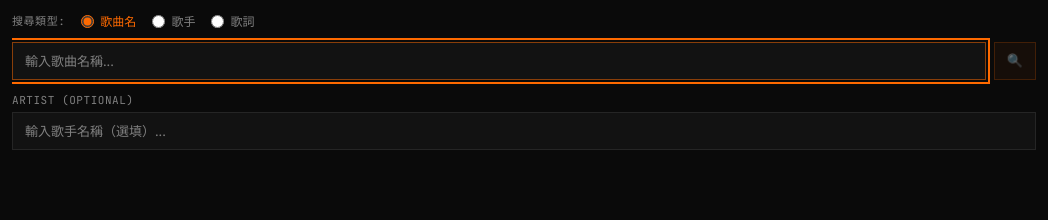
Test: LyricsSearchPanel › displays error message when search fails
This screenshot has width=1048, height=220.
Type "Test Query" into the field with placeholder "輸入歌曲名稱..." at (499, 61), box top-left (12, 42), bottom-right (986, 80)
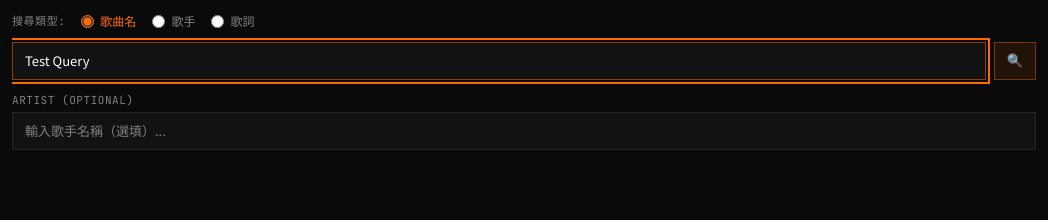
Press Enter in the field with placeholder "輸入歌曲名稱...", box top-left (12, 42), bottom-right (986, 80)
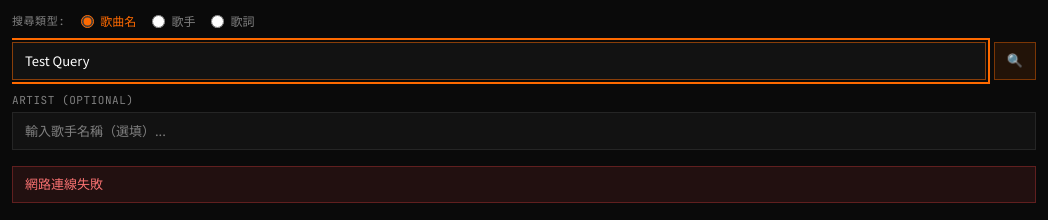
Check: the text "網路連線失敗" is shown, box top-left (12, 166), bottom-right (1036, 203)
